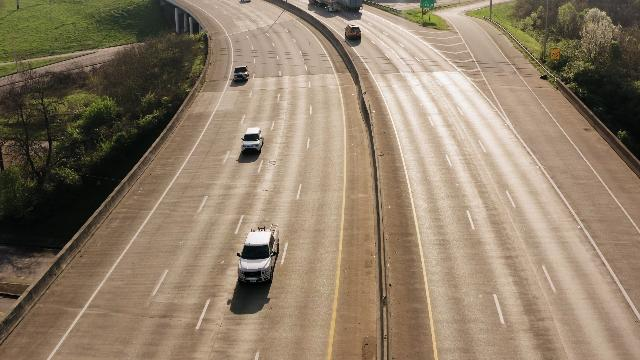car: (241, 127, 264, 157), (232, 64, 250, 84)
pickup-truck: (239, 222, 282, 288)
van: (345, 22, 363, 42)
